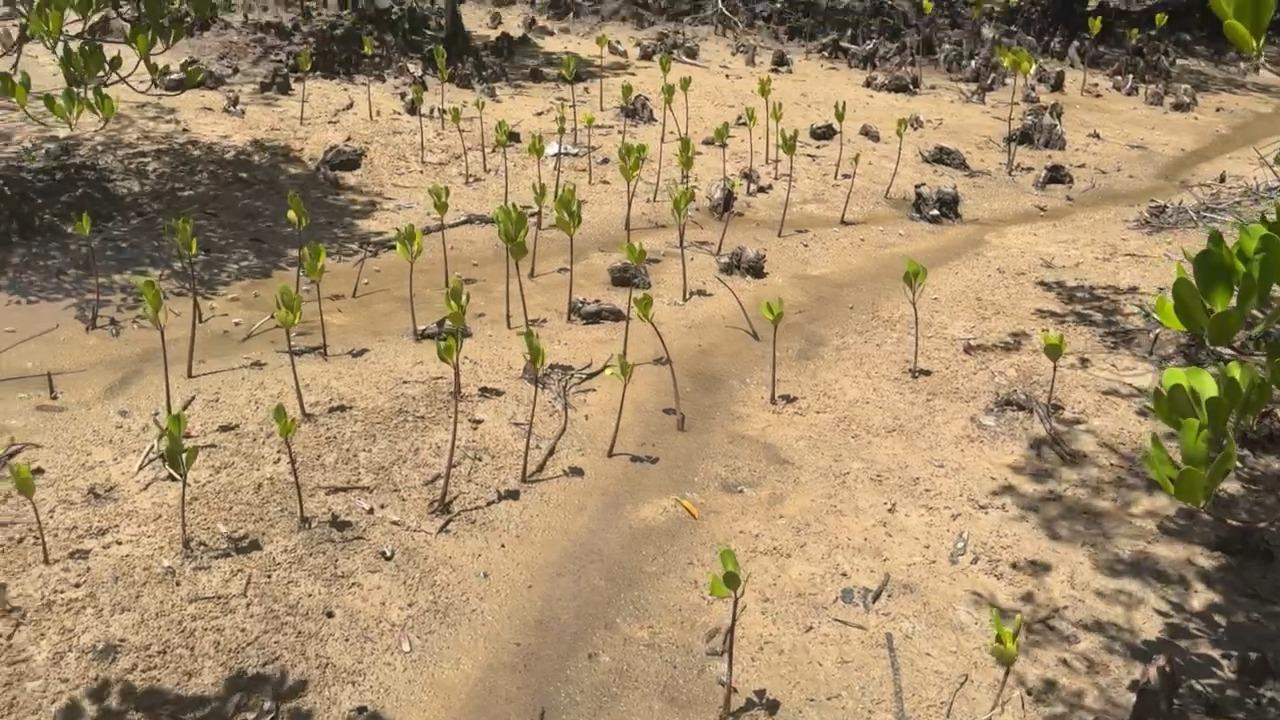Tree: (633, 293, 685, 431), (710, 549, 750, 720), (128, 270, 171, 414), (153, 410, 198, 543), (0, 461, 49, 562), (995, 43, 1033, 167), (273, 283, 307, 416), (495, 205, 530, 330), (435, 335, 459, 506), (271, 401, 305, 519), (166, 217, 203, 320), (68, 210, 100, 326), (521, 326, 544, 484), (989, 605, 1024, 707), (555, 182, 581, 318), (663, 74, 695, 180), (667, 179, 695, 300), (179, 218, 200, 377), (394, 222, 423, 336), (901, 254, 927, 378), (605, 351, 635, 458), (443, 280, 470, 394), (302, 238, 327, 354), (285, 189, 309, 298), (427, 183, 452, 286), (616, 142, 640, 242), (495, 206, 514, 330), (763, 297, 785, 404), (778, 127, 799, 238), (625, 142, 648, 227), (558, 54, 578, 144), (447, 106, 470, 184), (885, 118, 907, 197), (494, 120, 513, 208), (529, 130, 546, 227), (1043, 332, 1066, 403), (840, 153, 862, 225), (1081, 17, 1101, 96), (531, 182, 547, 277), (431, 43, 448, 128), (758, 74, 773, 165), (743, 106, 758, 194), (409, 85, 424, 162), (676, 135, 696, 191), (472, 97, 487, 170), (595, 33, 609, 111), (659, 53, 671, 140), (298, 45, 311, 125), (362, 37, 374, 120), (619, 79, 634, 145), (1007, 114, 1024, 172), (770, 101, 782, 179), (714, 122, 729, 184), (583, 112, 595, 184), (834, 100, 845, 178)
